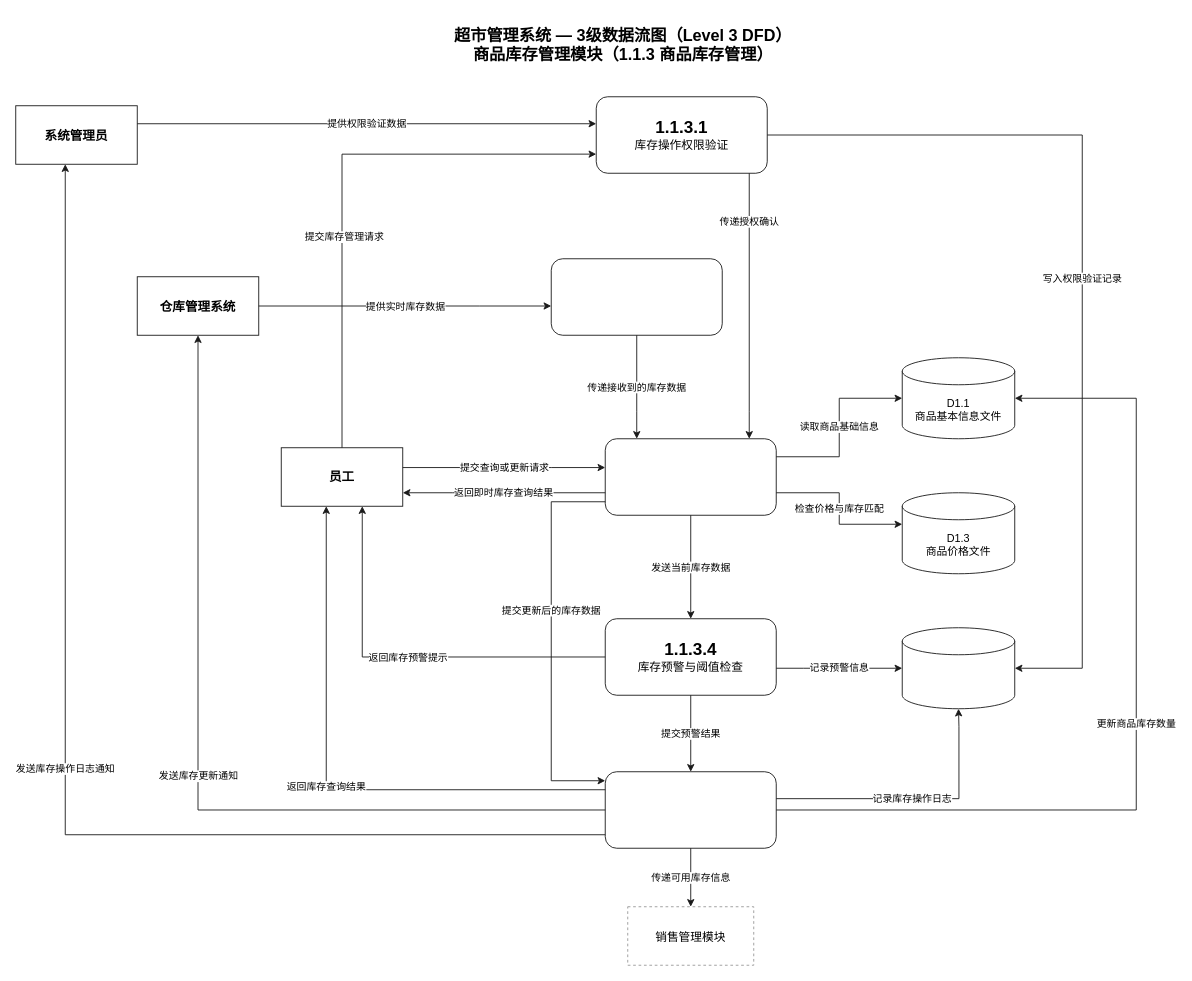
Image size: 1192x981. Some labels were removed from this diagram. The shapes that lost their labels are listed below. From the top down, each one's centre as x and y in pixels, then its label:
At point (636, 296): "1.1.3.2 实时库存数据接收".
At point (690, 476): "1.1.3.3 商品库存查询与更新".
At point (958, 668): "D1.3.1 商品库存操作日志文件".
At point (690, 809): "1.1.3.5 库存信息保存与通知".
